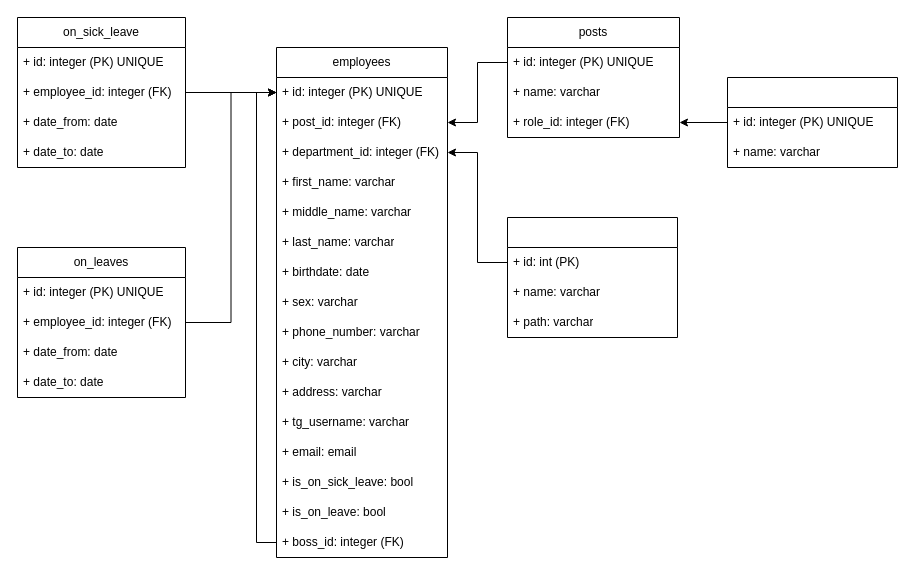
Some shapes in this 915 by 575 pixel diagram are drawn without their labels. The box of each missing label's shape, as (x1, y1, x2, y2) in pixels:
departments: (506, 216, 678, 338)
roles: (726, 76, 898, 168)
